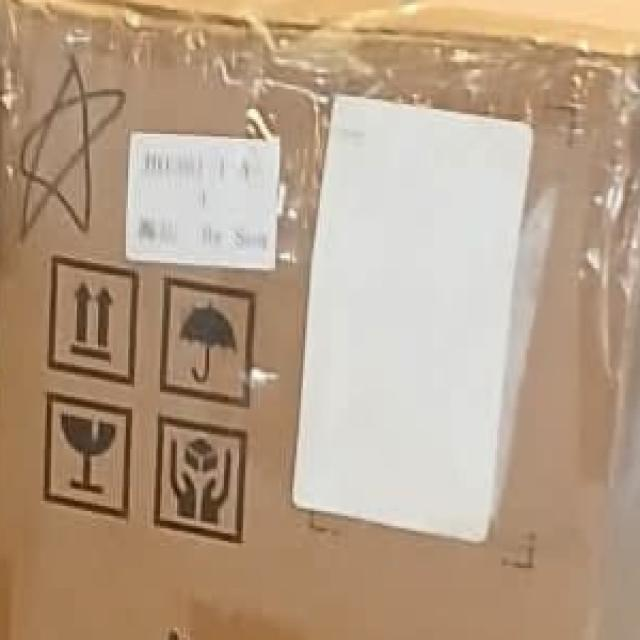carton_box: (0, 2, 640, 640)
export_mark_label: (113, 122, 291, 276)
fragile_label: (29, 378, 137, 524)
handle_with_care_label: (152, 407, 260, 553)
keep_dry_label: (154, 266, 268, 414)
this_side_up_label: (36, 236, 148, 386)
